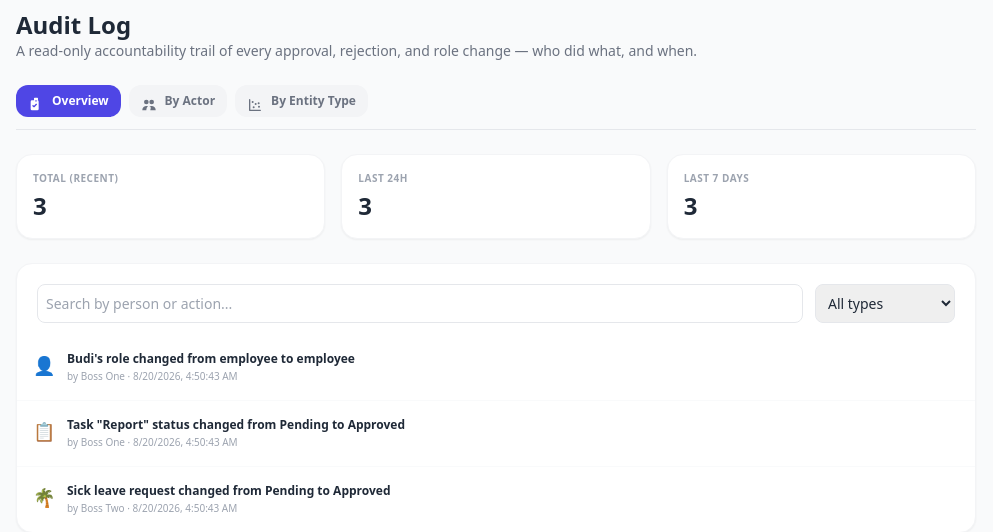
Test: AuditLogView › the By Entity Type tab aggregates entries per entity type
Click the tab "By Entity Type": click(302, 101) [235, 85, 368, 117]
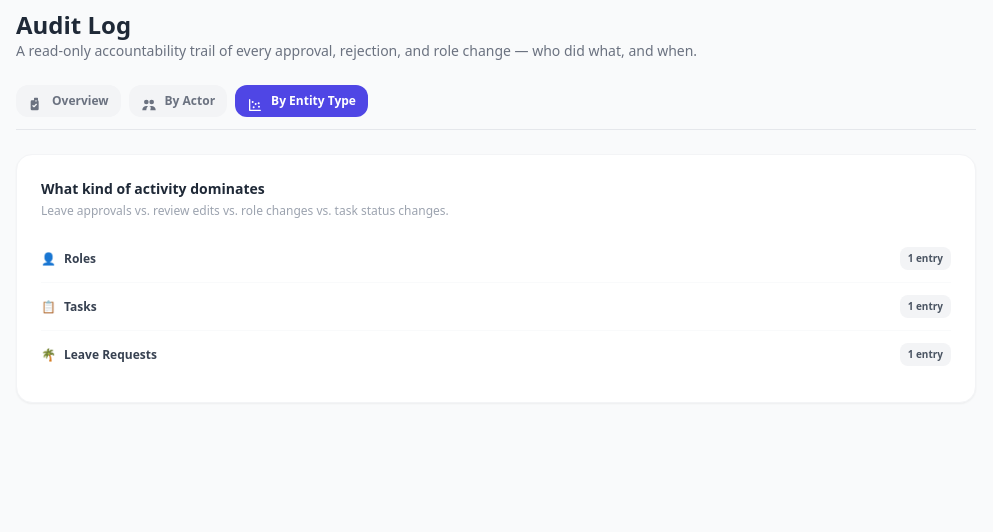
Expected: the text "Roles" is shown, [64, 250, 96, 266]
Expected: the text "Tasks" is shown, [64, 298, 97, 314]
Expected: the text "Leave Requests" is shown, [64, 346, 157, 362]
